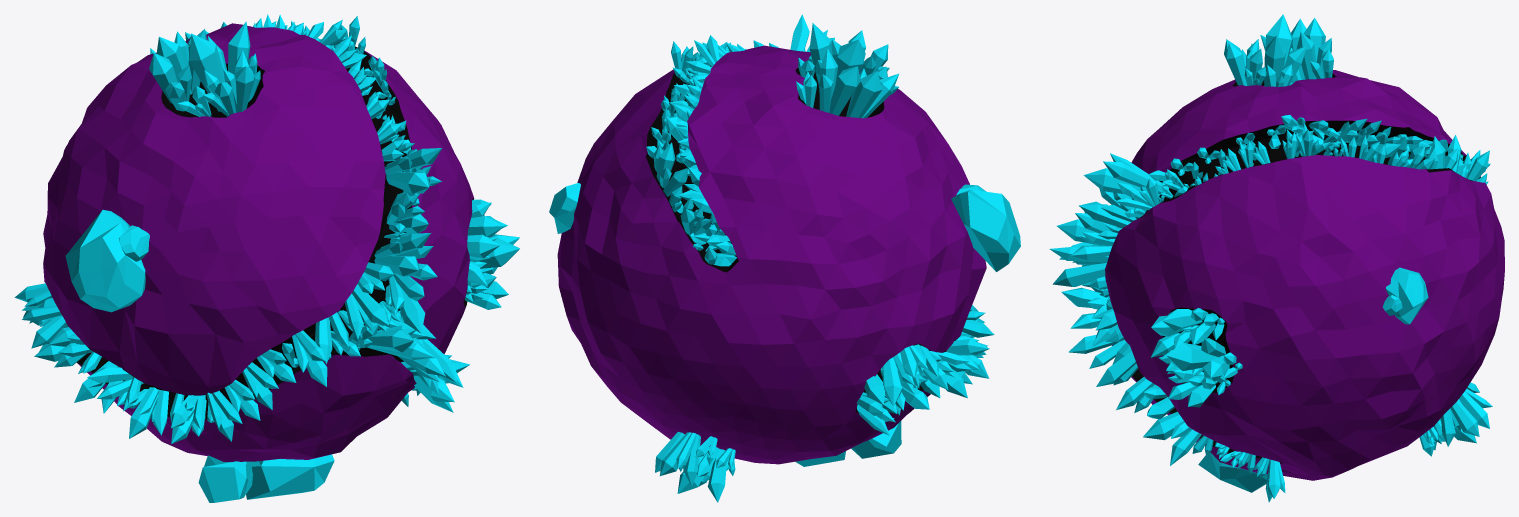
File: crystal_planet.glb
The picture shows the model from 3 angles, left to right: view 1: azimuth 30°, elevation 25°; view 2: azimuth 150°, elevation 25°; view 3: azimuth 270°, elevation 25°; orthographic projection. The views are drawn at different scales.
Visible parts, largest first — view 1: CRYSTAL_PLANET_BASE, Gem; view 2: CRYSTAL_PLANET_BASE, Gem; view 3: CRYSTAL_PLANET_BASE, Gem.
Boxes of the visible parts, x1,y1,x2,y2 form: CRYSTAL_PLANET_BASE: [43, 23, 474, 461]; Gem: [14, 14, 519, 502]; CRYSTAL_PLANET_BASE: [557, 45, 986, 464]; Gem: [549, 14, 1020, 502]; CRYSTAL_PLANET_BASE: [1105, 70, 1504, 480]; Gem: [1049, 14, 1492, 502].
Bounding box in the file's own units: 2.31 × 2.42 × 2.27.
Materials: 2 (1 with a texture image).
